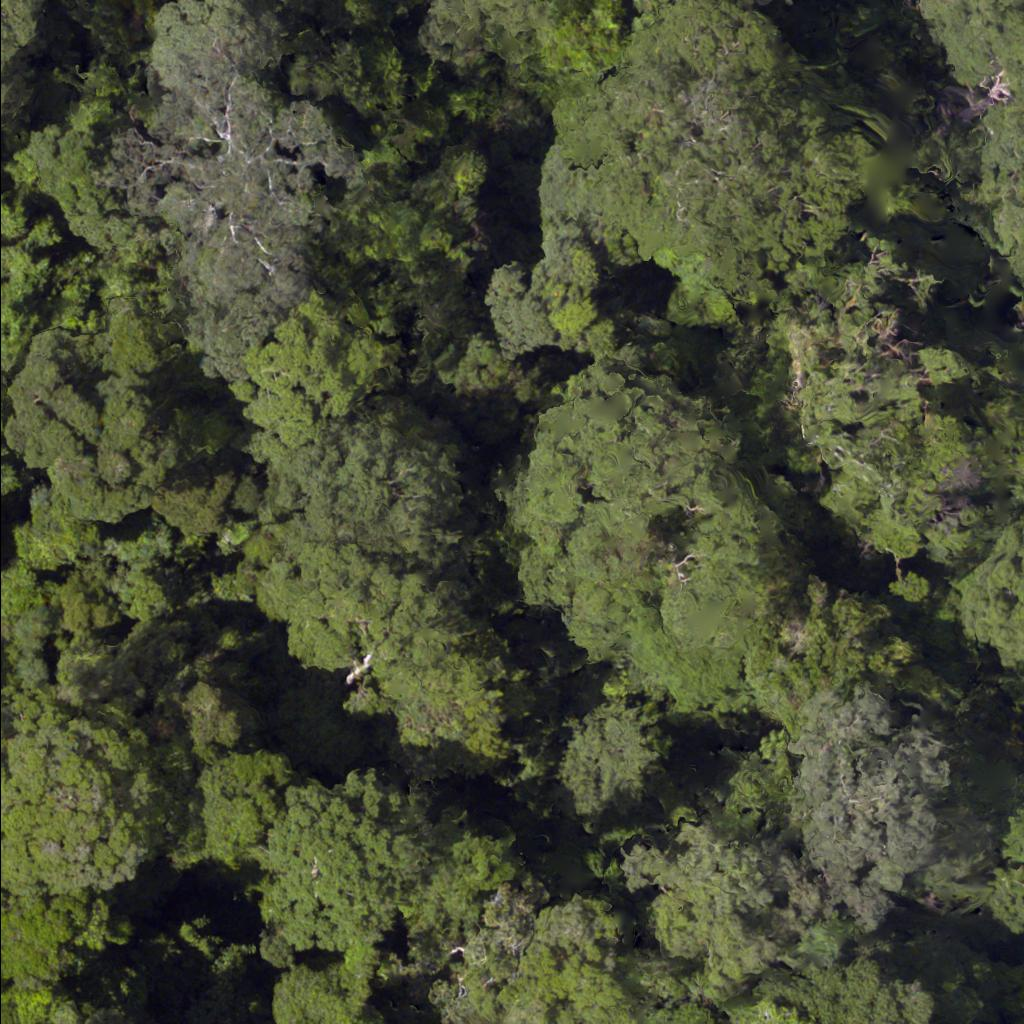crown: (114, 69, 348, 374), (10, 331, 168, 513), (153, 0, 278, 89), (0, 0, 30, 62)
